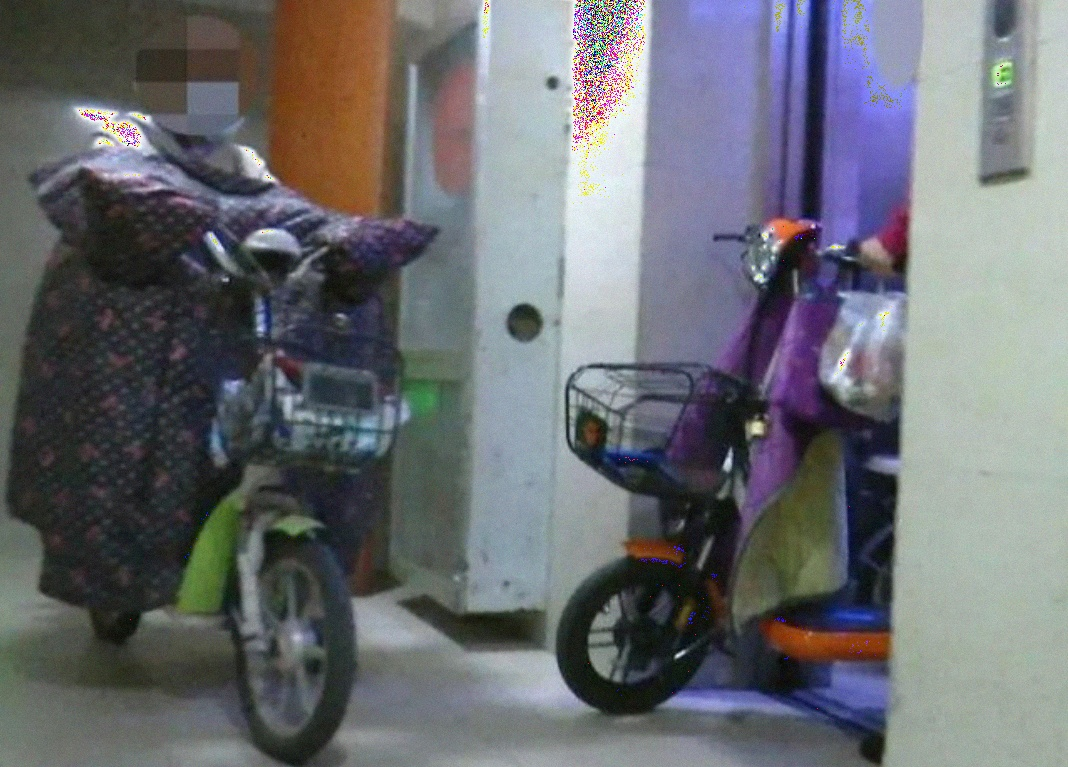ebike: (19, 137, 424, 760), (558, 214, 903, 713)
